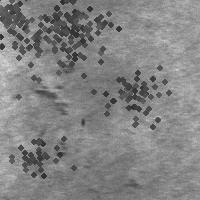rolled-in_scale: (19, 0, 119, 80), (90, 53, 174, 137), (0, 0, 77, 90), (23, 0, 117, 64), (2, 125, 70, 193), (31, 59, 74, 161), (0, 0, 34, 37)
